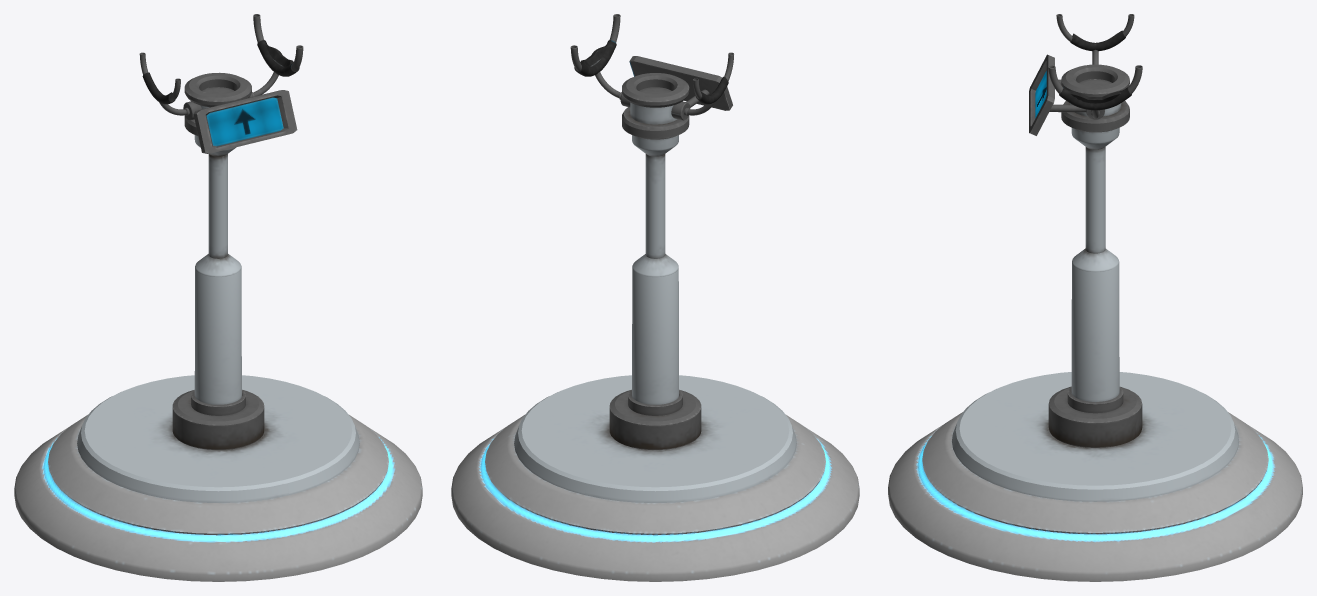
Rendered from portalgun_pedestal_bundle_compressed.glb.
3 renders of one model, left to right at view 1: azimuth 30°, elevation 25°; view 2: azimuth 150°, elevation 25°; view 3: azimuth 270°, elevation 25°, orthographic.
Parts seen in each view (by area): view 1: PortalGun_Pedestal; view 2: PortalGun_Pedestal; view 3: PortalGun_Pedestal.
Part boxes in pixels (x1,y1,x2,y2): PortalGun_Pedestal: [14, 14, 422, 581]; PortalGun_Pedestal: [451, 14, 859, 581]; PortalGun_Pedestal: [888, 14, 1302, 581].
Size of the model in its own units: 0.7462 by 0.9072 by 0.7462.
Materials: 1 (1 with a texture image).
